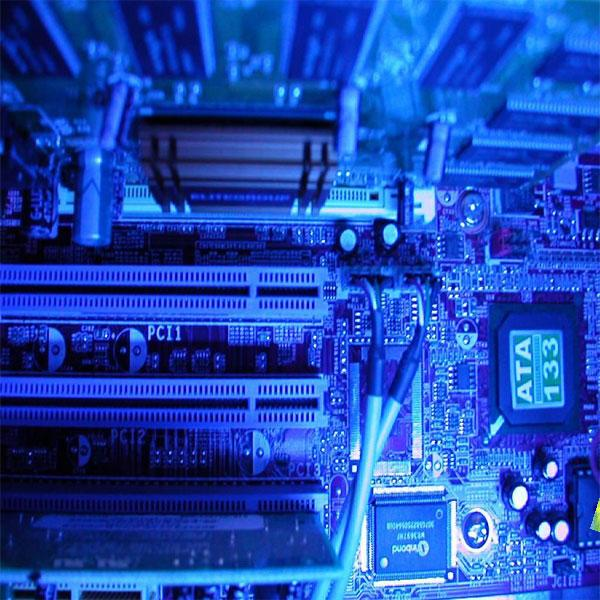componente_T: (587, 488, 600, 539)
